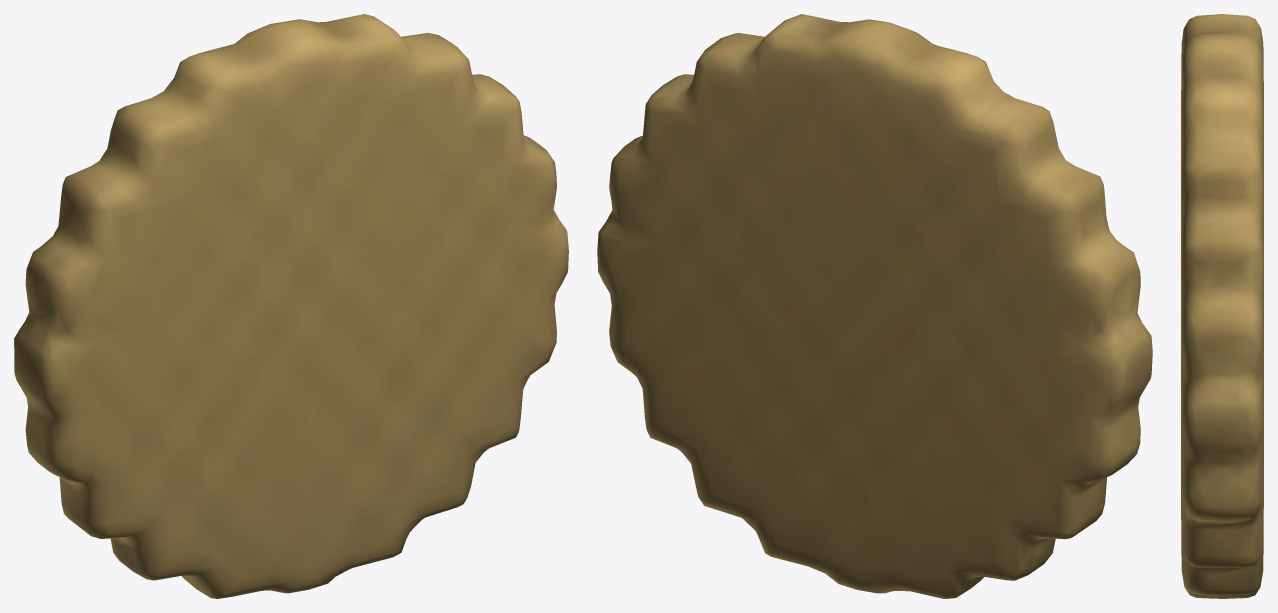
File: gear_roller.glb
3 views of the same model, side by side, from view 1: azimuth 30°, elevation 25°; view 2: azimuth 150°, elevation 25°; view 3: azimuth 270°, elevation 25° (orthographic). The views are drawn at different scales.
Visible parts, largest first — view 1: gear_roller; view 2: gear_roller; view 3: gear_roller.
Boxes of the visible parts, <box> form: gear_roller: <box>14,14,568,598</box>; gear_roller: <box>597,14,1152,598</box>; gear_roller: <box>1181,14,1263,598</box>.
Bounding box in the file's own units: 3.52 × 3.52 × 0.5001.
Materials: 1 (1 with a texture image).
